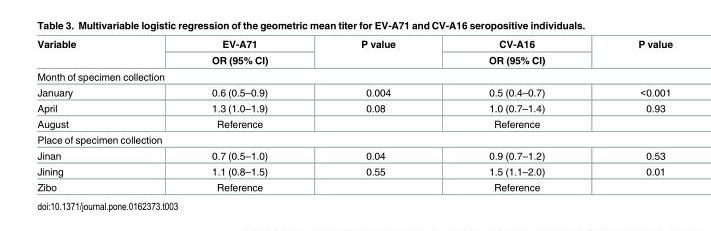table: (36, 37, 672, 192)
table column: (143, 37, 313, 192), (441, 37, 590, 192), (313, 37, 441, 192), (36, 37, 143, 192), (590, 37, 672, 192)
table column header: (36, 37, 672, 67)
table projected row header: (36, 67, 672, 84), (36, 131, 672, 147)
table row: (36, 67, 672, 84), (36, 51, 672, 67), (36, 99, 672, 115), (36, 115, 672, 131), (36, 131, 672, 147), (36, 162, 672, 178), (36, 84, 672, 99), (36, 147, 672, 162), (36, 37, 672, 51), (36, 178, 672, 192)
table spanning cell: (143, 37, 313, 67), (441, 37, 590, 67), (313, 37, 441, 67), (36, 37, 143, 67), (590, 37, 672, 67)
